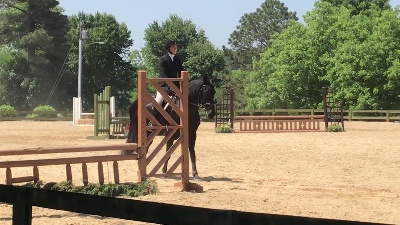jetta: (125, 71, 219, 181)
